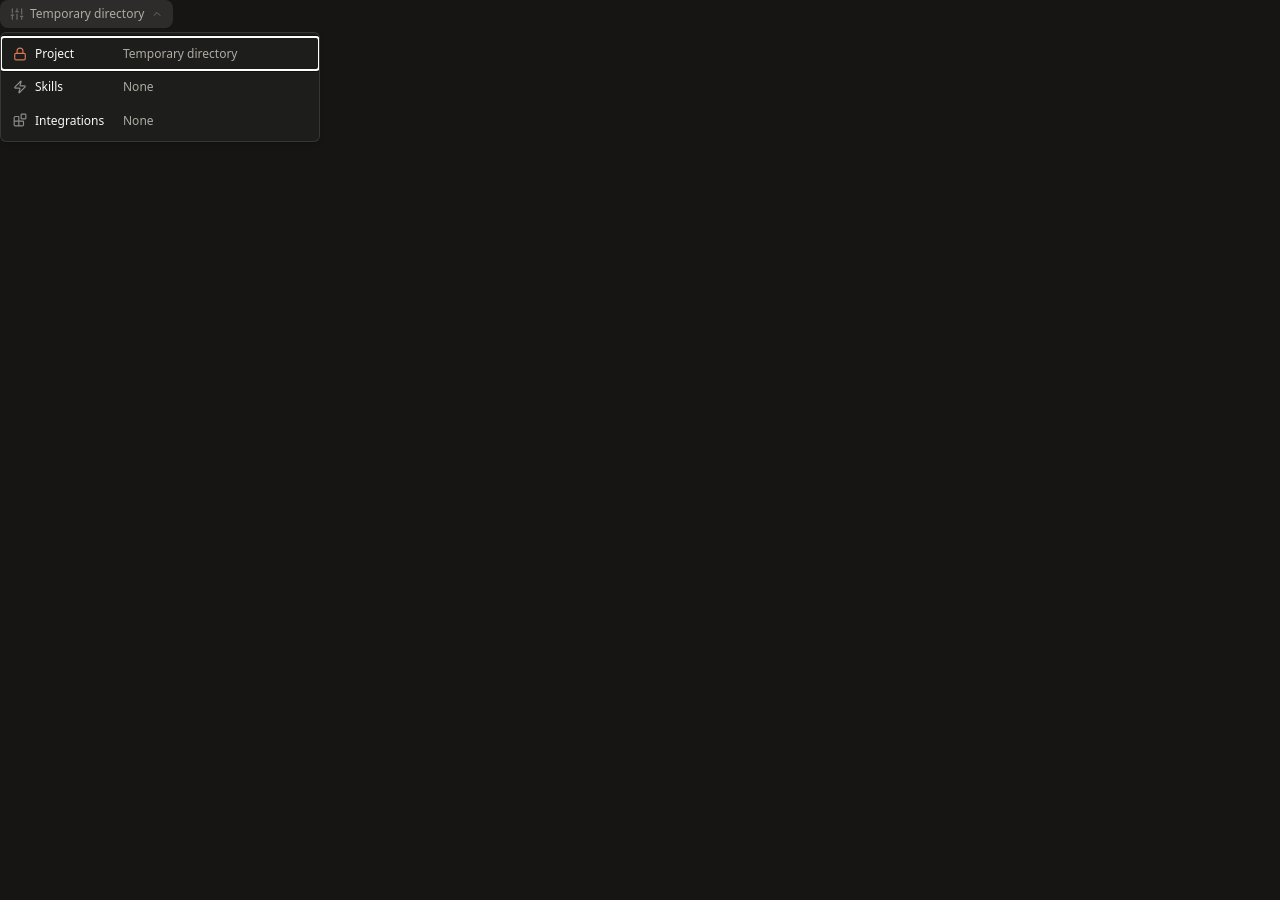
Scenario: ConfigMenu — locked project (durable rebind) › surfaces a failed rebind's error inline
What coordinates should you click on to do the following:
click the text "Project"
I would click on:
 (55, 54)
Its box is left=35, top=45, right=74, bottom=62.
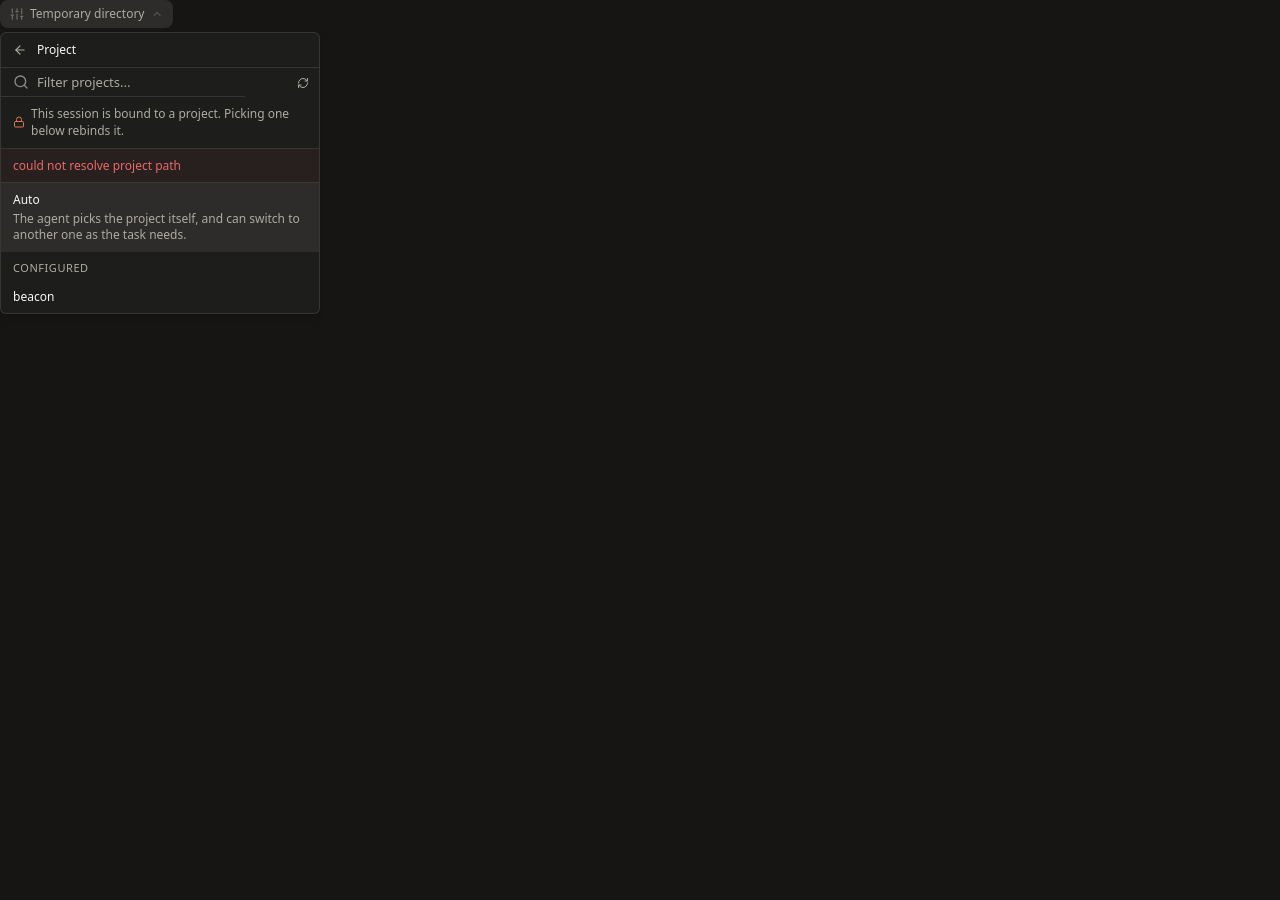
Check: the text "could not resolve project path" is shown, box left=1, top=149, right=319, bottom=183
